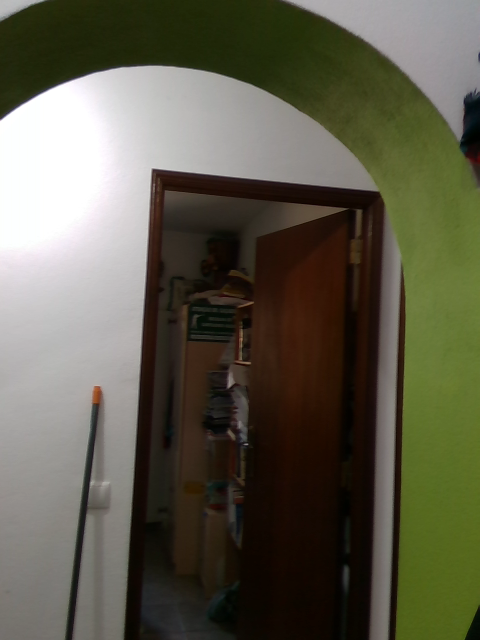open: (125, 161, 390, 639)
